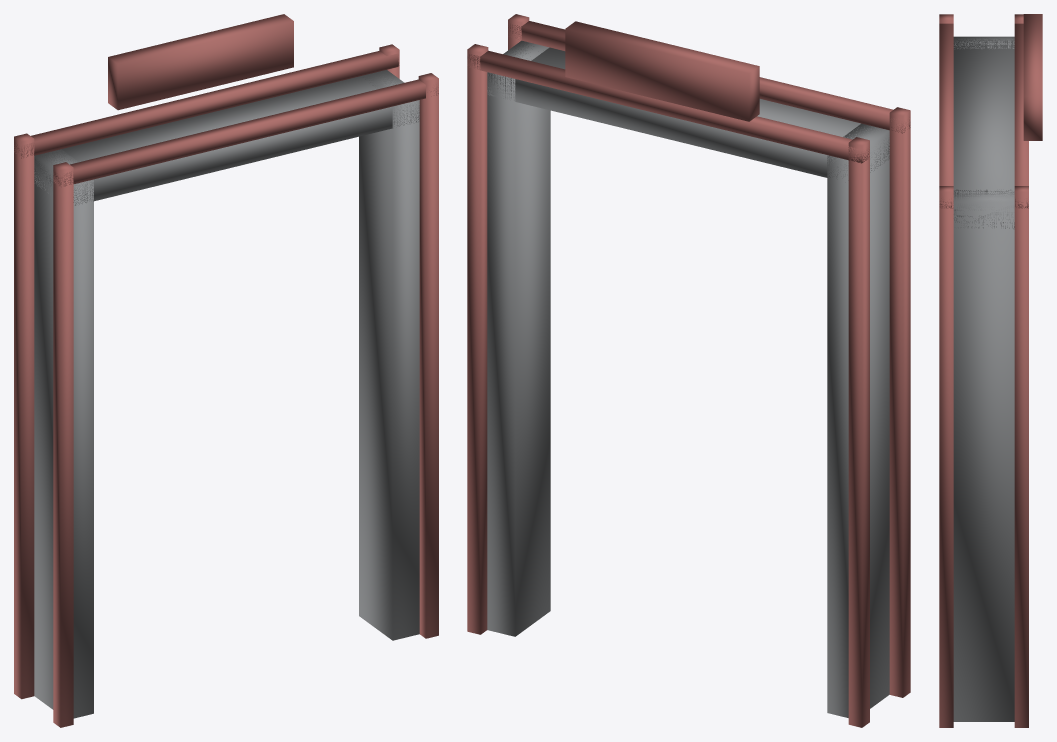
The model's file is doorway_emergency_exit_w122_h200_d24.glb.
3 renders of one model, left to right at view 1: azimuth 30°, elevation 25°; view 2: azimuth 150°, elevation 25°; view 3: azimuth 270°, elevation 25°, orthographic. The views are drawn at different scales.
Parts seen in each view (by area): view 1: world; view 2: world; view 3: world.
Part boxes in pixels (x1,y1,x2,y2): world: [14, 14, 438, 727]; world: [467, 14, 910, 727]; world: [939, 14, 1042, 727].
Size of the model in its own units: 1.55 by 2.37 by 0.3798.
